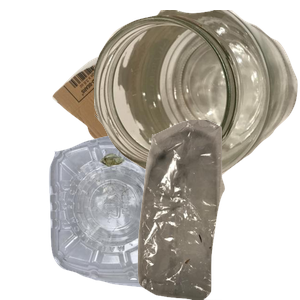cardboard: (50, 38, 233, 184)
glass: (94, 10, 300, 184)
plastic: (46, 130, 227, 300)
trash: (114, 120, 300, 300)
